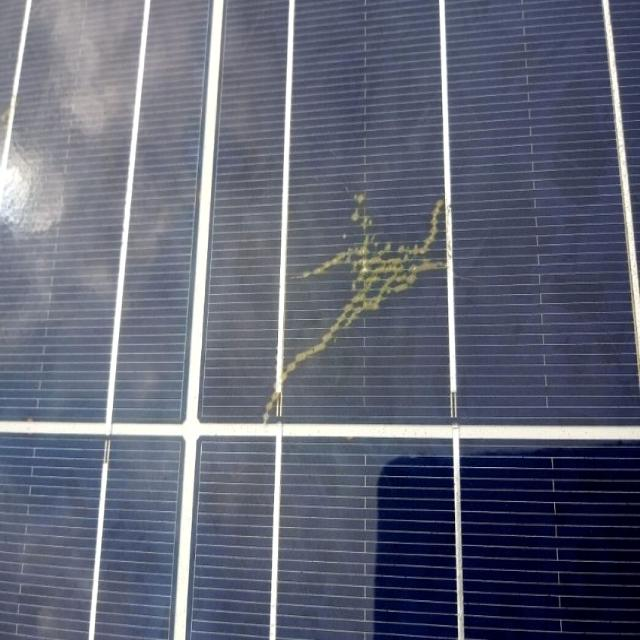shadow: (236, 158, 468, 438)
